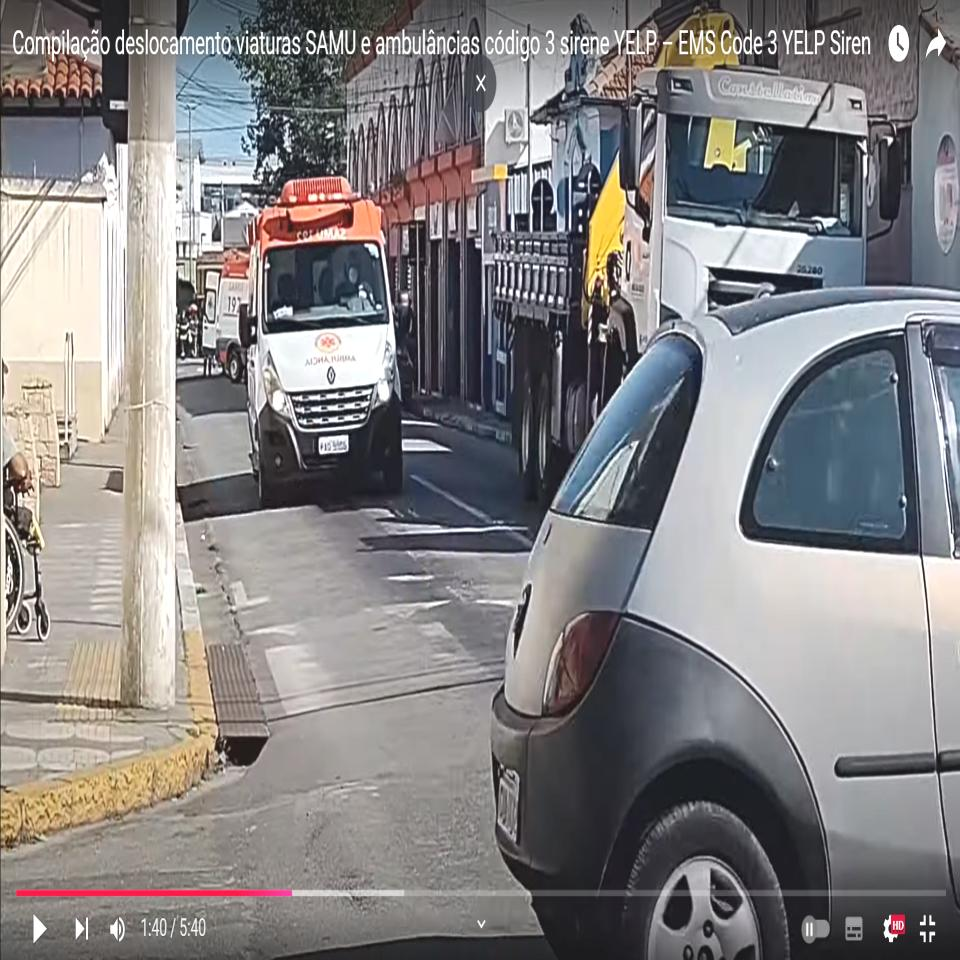ambulancia: (235, 168, 418, 510)
